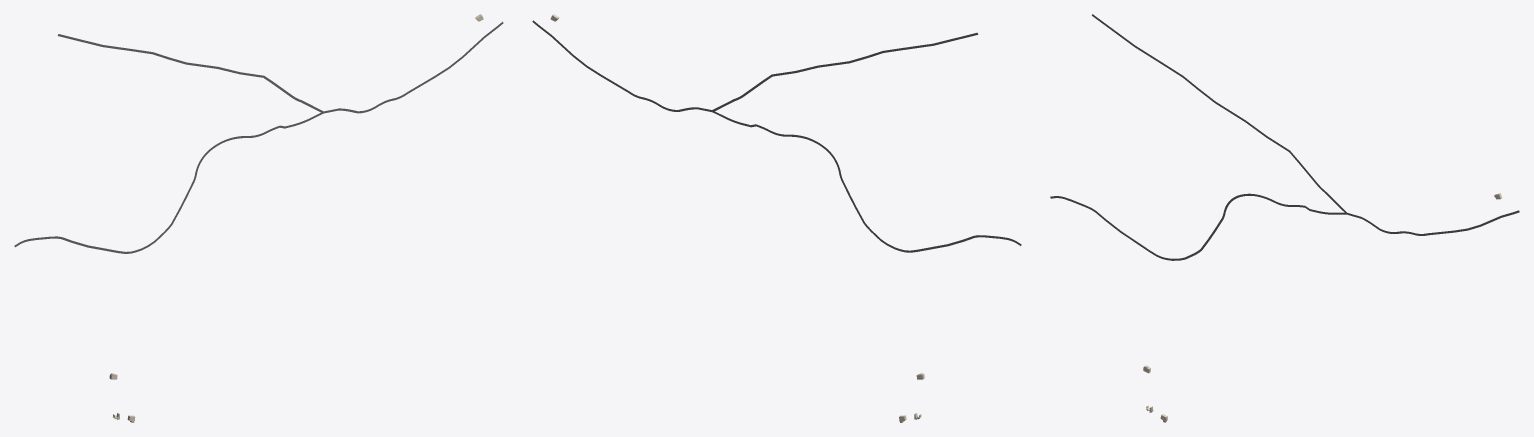
File: historic-palestine-10_30_3518_3245.glb
The picture shows the model from 3 angles, left to right: view 1: azimuth 30°, elevation 25°; view 2: azimuth 150°, elevation 25°; view 3: azimuth 330°, elevation 25°; orthographic projection. The views are drawn at different scales.
Parts seen in each view (by area): view 1: Road, Road .001; view 2: Road, Road .001; view 3: Road, Road .001.
Part boxes in pixels (bbox=[...]): Road: bbox=[14, 21, 503, 253]; Road .001: bbox=[57, 34, 323, 113]; Road: bbox=[532, 20, 1021, 252]; Road .001: bbox=[712, 32, 978, 111]; Road: bbox=[1050, 193, 1519, 260]; Road .001: bbox=[1092, 14, 1346, 213].
Size of the model in its own units: 1218 by 969 by 8.7.
